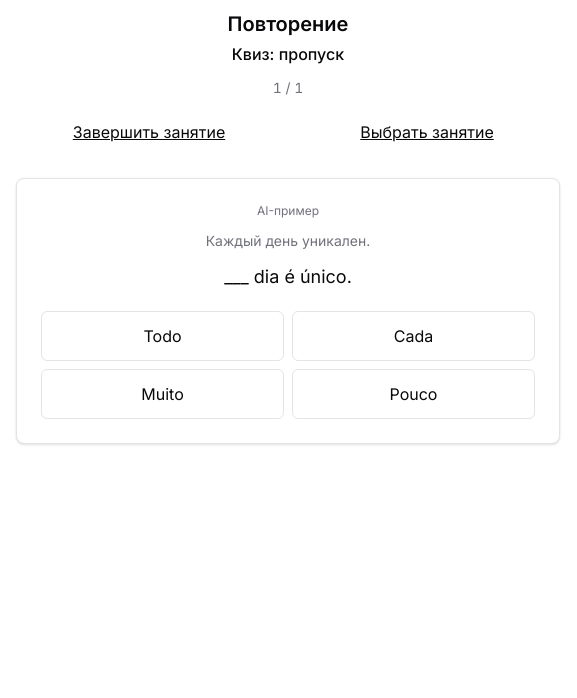
Test: QuizSession final screen — writing exercise › hides writing exercise button when all answers are correct (quality >= 4)
Click the button "Cada" at (414, 336), box [292,311,535,361]
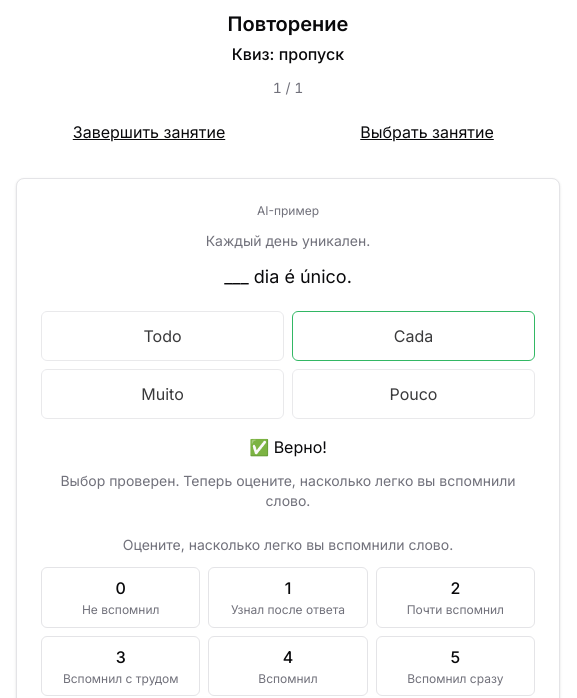
Click the button "5 Вспомнил сразу" at (455, 666), box [376,636,535,696]
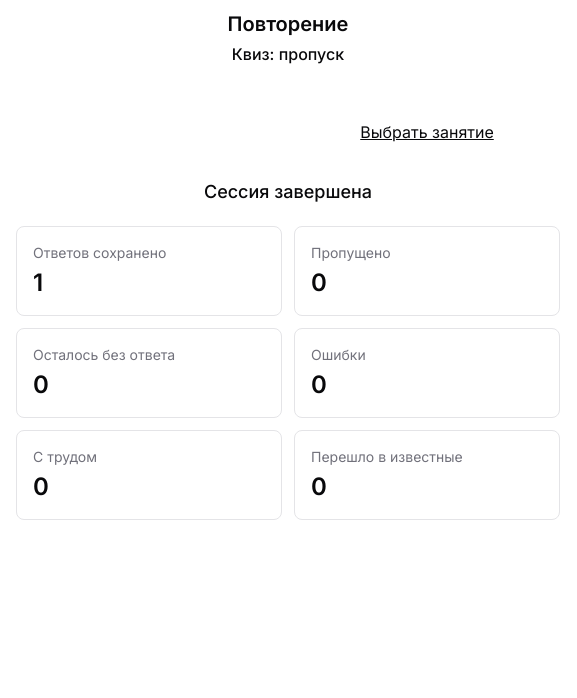
Expected: the heading "Сессия завершена" is shown, [204,181,372,202]
